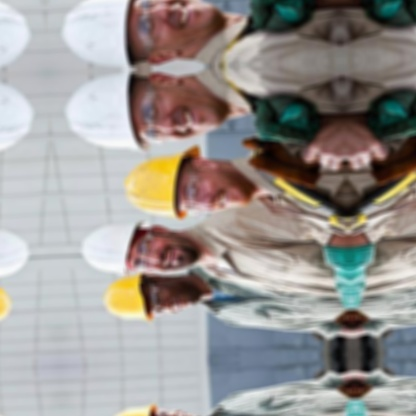white: (79, 217, 144, 283)
yellow: (120, 148, 189, 225), (100, 272, 154, 331)
